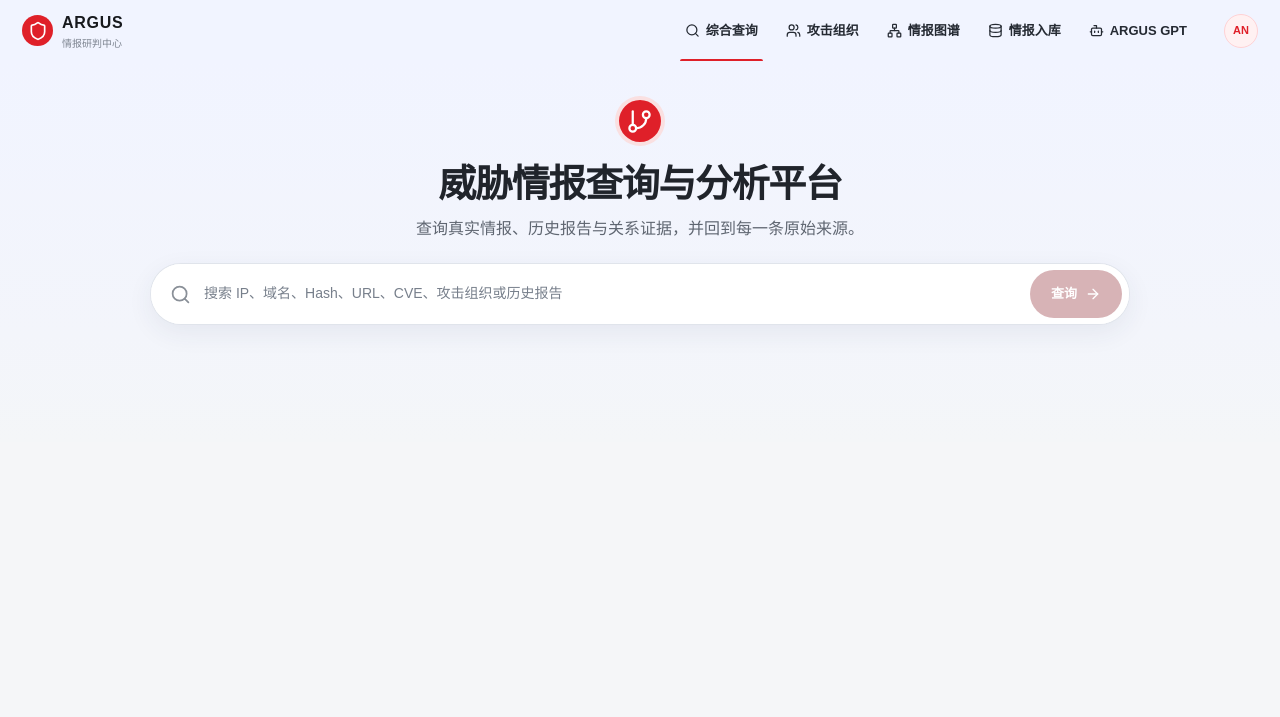
Test: ARGUS query-centered workflows › opens an exact published flow directly with confirmed states only
Type "确定路径直达测试" into the field named "综合查询输入" at [610, 294], box [204,283,1017,304]
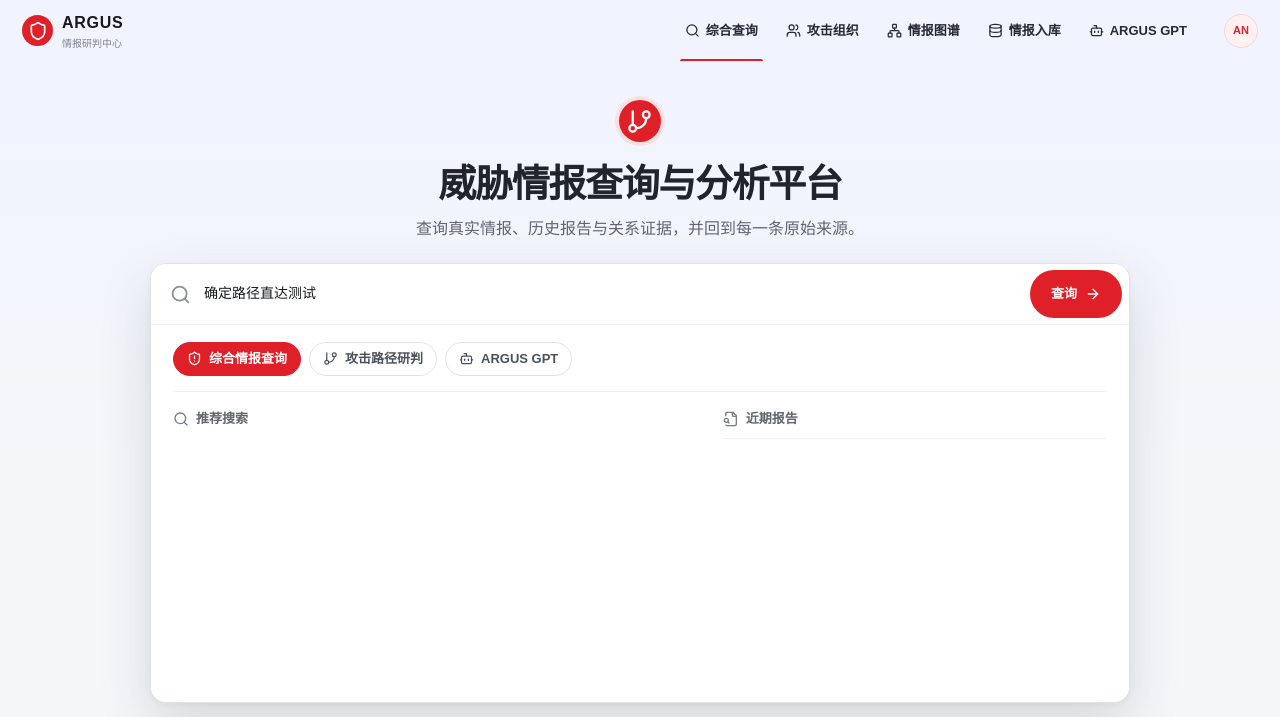
Click the button with aria-label "执行查询" at [1076, 294], box [1030,270,1122,318]
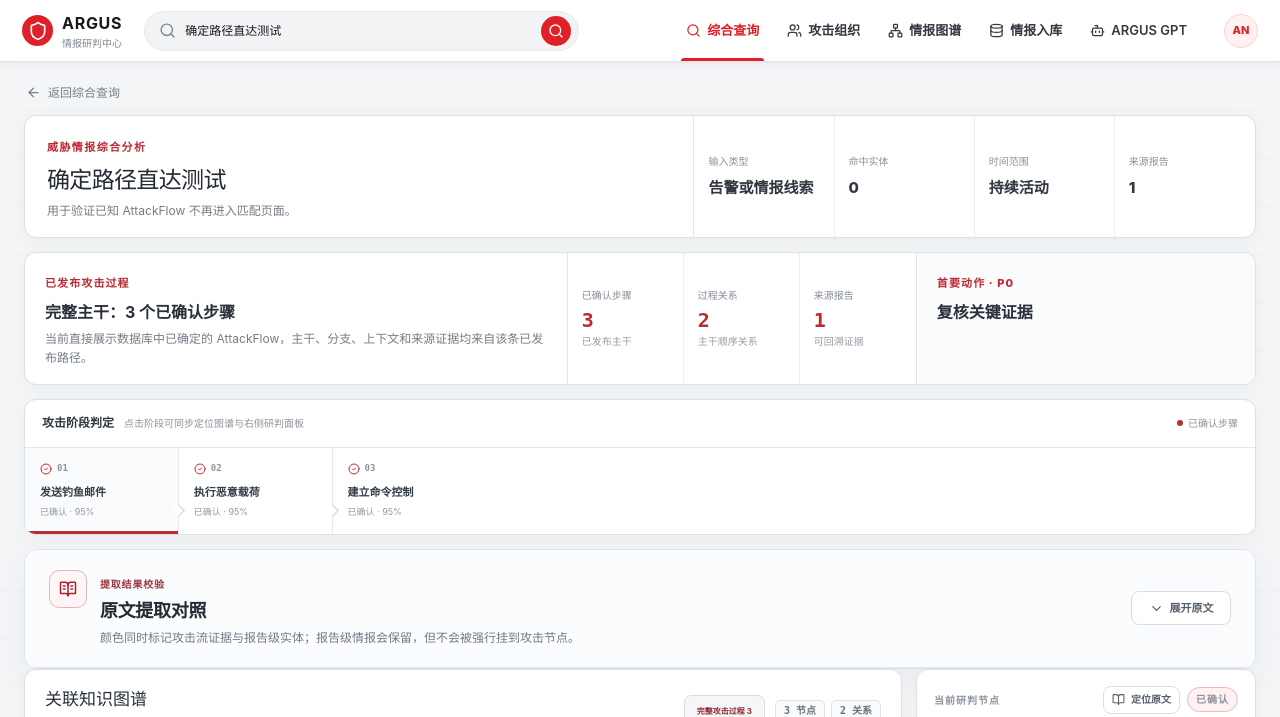
expect the text "已发布攻击过程" is shown: met, box [45,276,130,290]
expect the text "已确认步骤" next to "过程关系" is shown: met, box [582,289,632,301]
